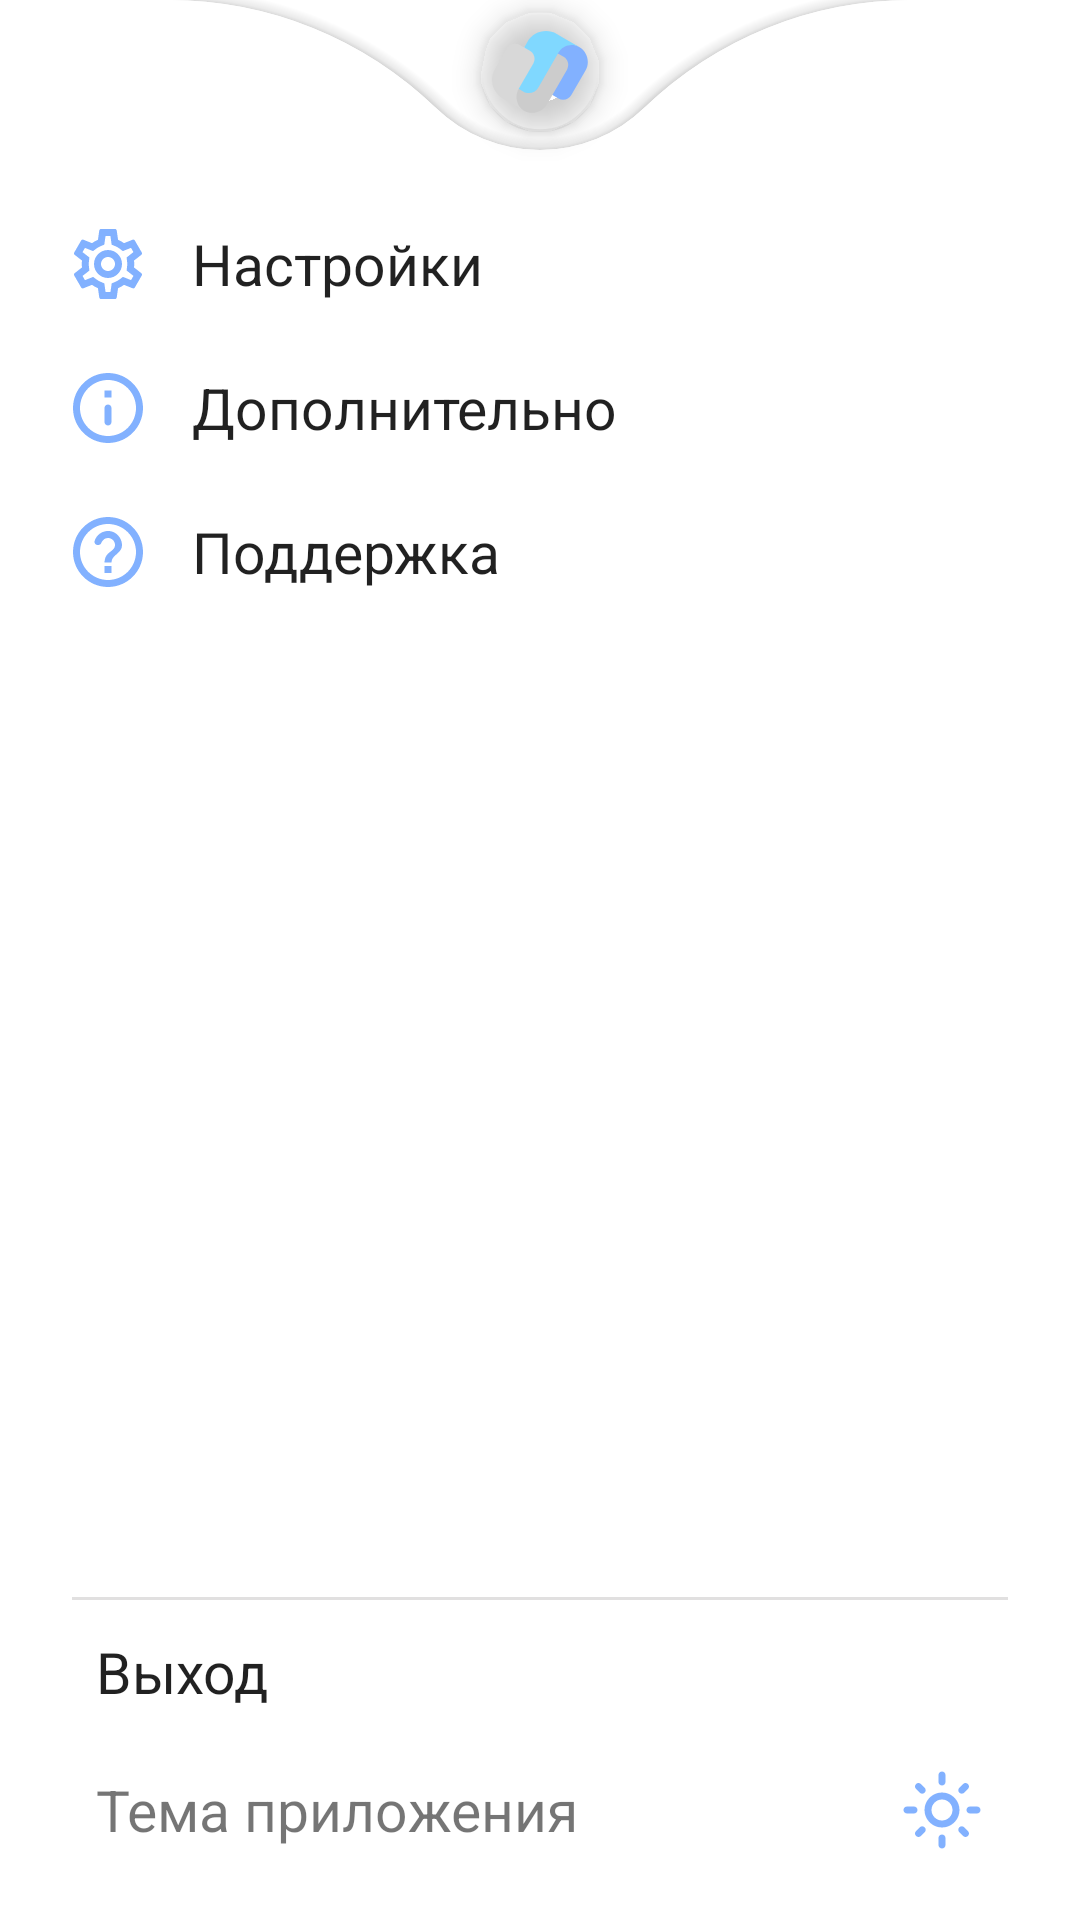

Icons on this 1080px×1920px Android screen, each with the point to tap as (x,y):
mode: (942,1810)
